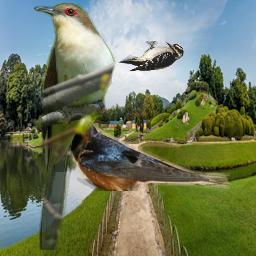Cuckoo: (33, 2, 117, 250)
Swallow: (59, 113, 230, 191)
Woodpecker: (118, 41, 188, 74)
